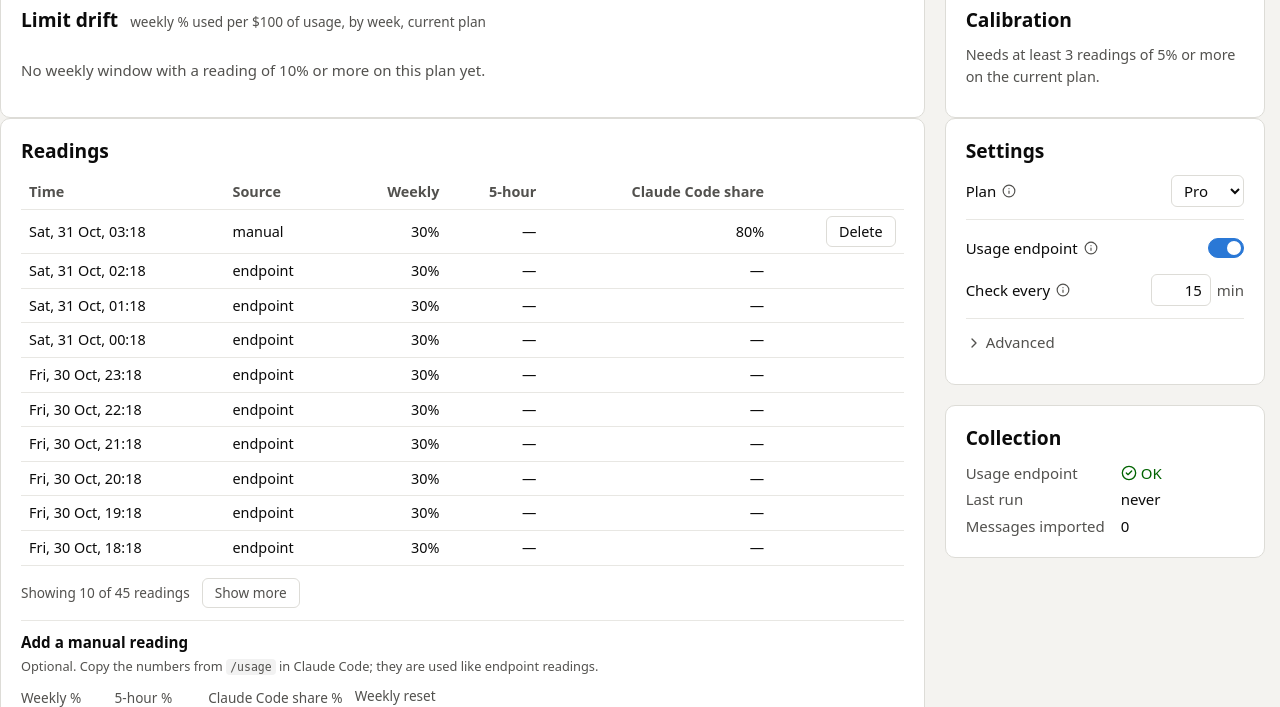
Scenario: calibration tab › readings › shows 10 rows, then 20 more, and the share or a dash
The width and height of the screenshot is (1280, 707).
Expected: the text "Showing 10 of 45 readings" is shown, [21, 583, 190, 603]
Expected: the text "80%" is shown, [544, 209, 772, 254]
Step 1. Click the button "Show more" → [251, 593], box [202, 578, 300, 608]
(page scrolled)
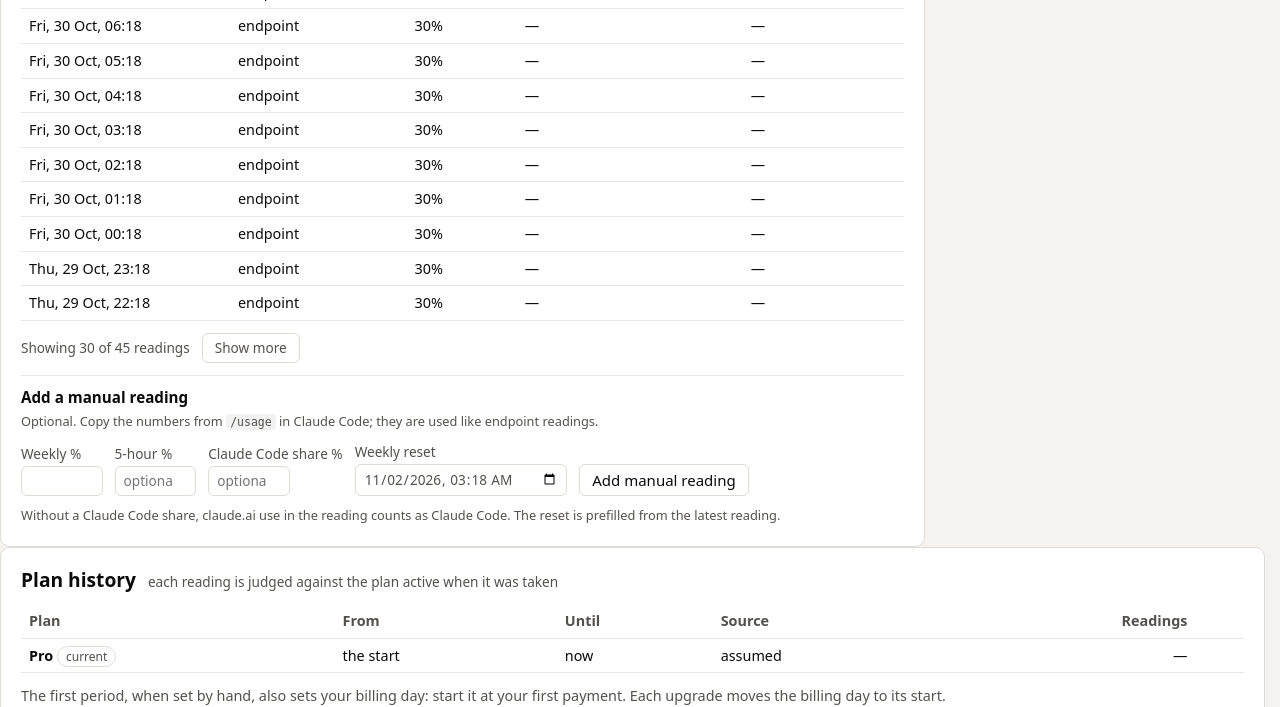
Step 2. Click the button "Show more" → [251, 348], box [202, 333, 300, 363]
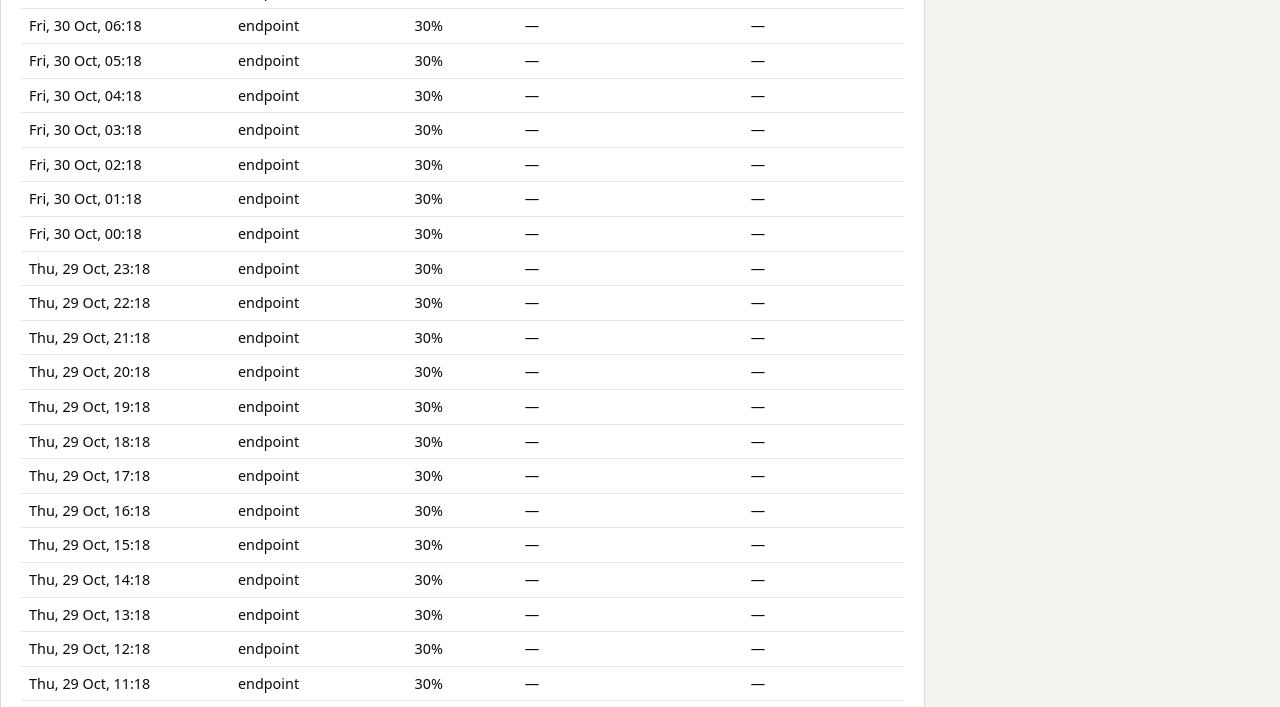
Now the button "Show more" is gone
